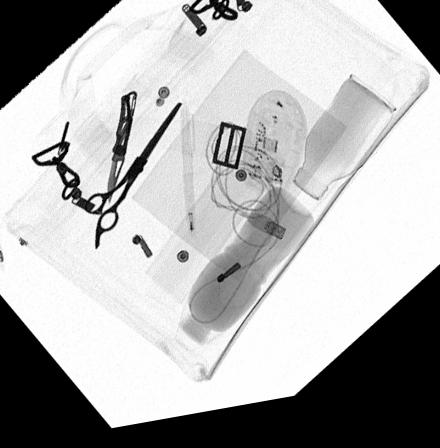Knife: (106, 95, 137, 207)
Scissors: (81, 107, 181, 254)
